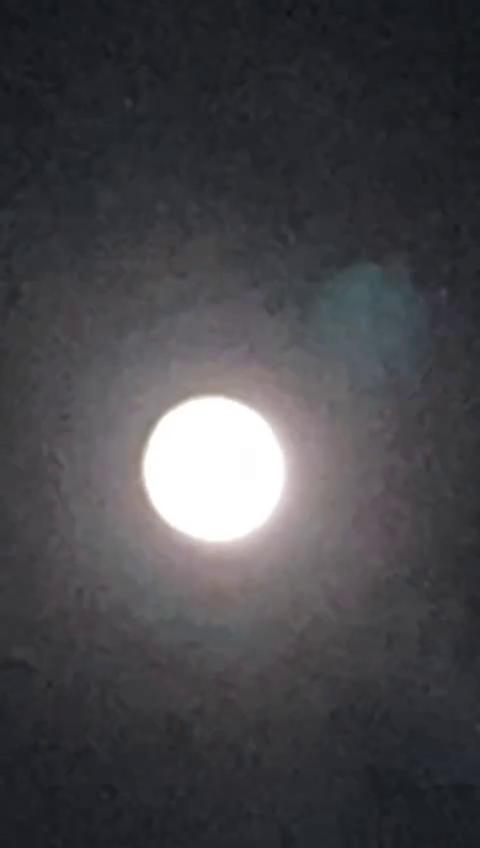moon: (136, 362, 304, 554)
